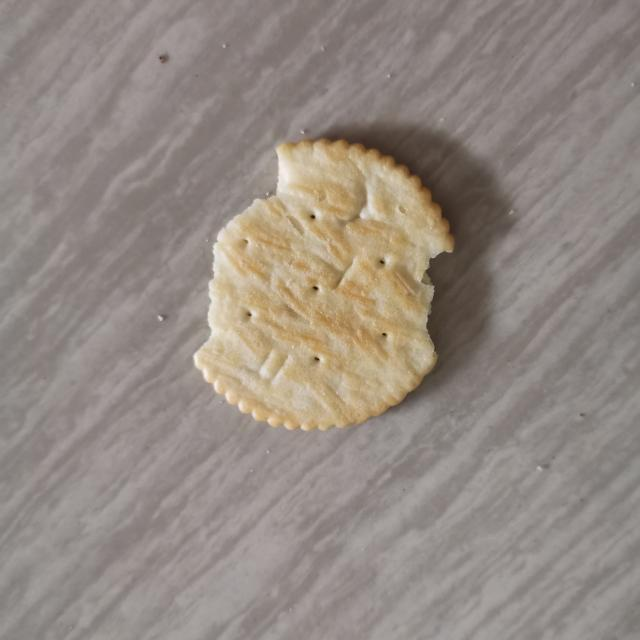Broken: (192, 136, 456, 432)
